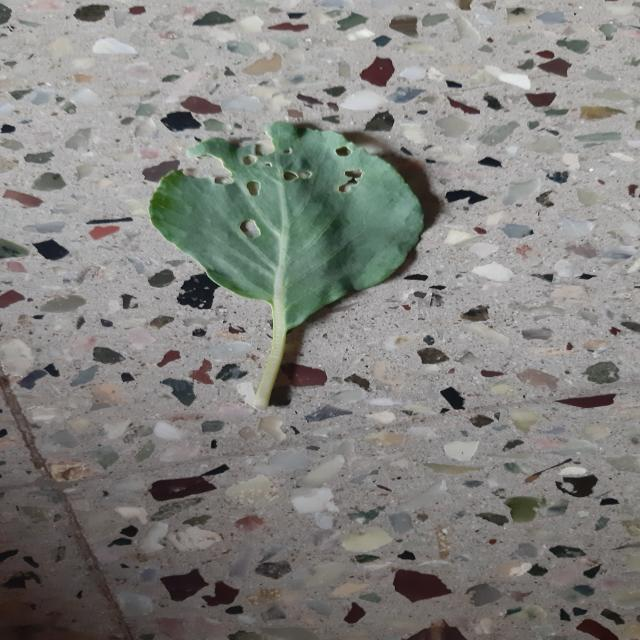Kohlrabi: (149, 121, 422, 409)
